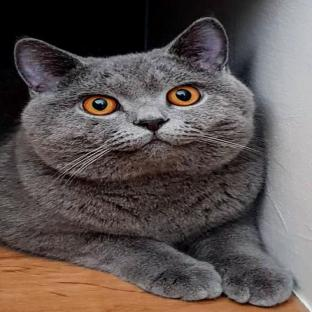Animal: (0, 17, 293, 306)
